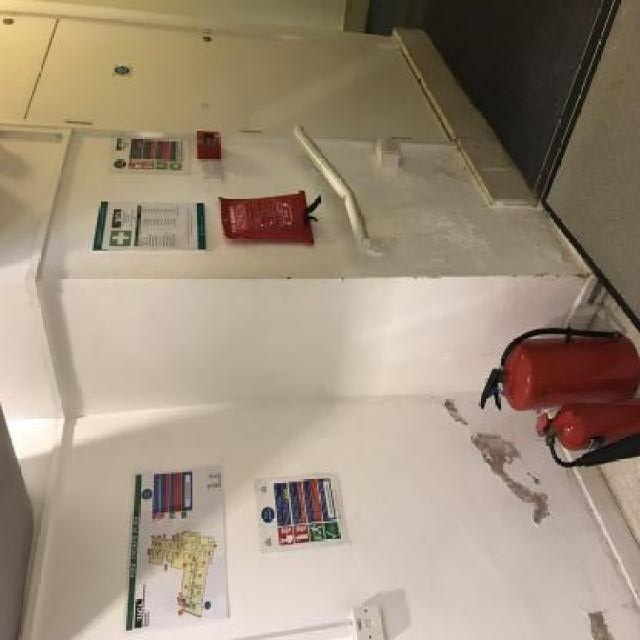fire extinguisher: (480, 319, 638, 410), (533, 393, 638, 479)
